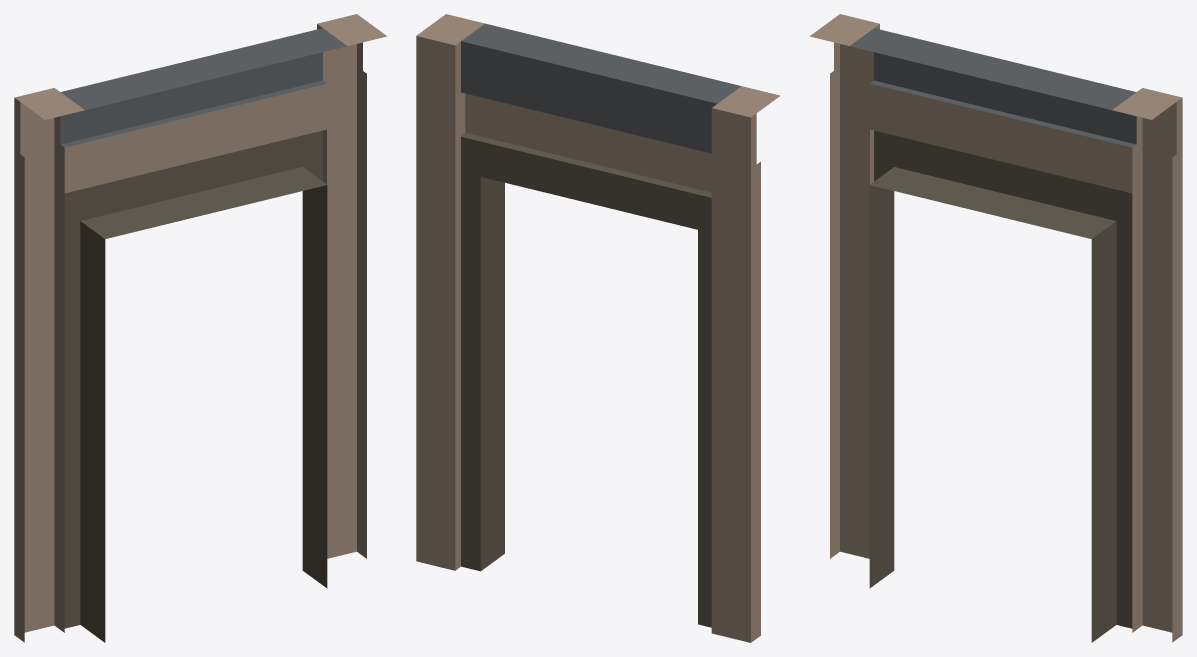
Rendered from Pillar_door.fbx.
The picture shows the model from 3 angles, left to right: view 1: azimuth 30°, elevation 25°; view 2: azimuth 150°, elevation 25°; view 3: azimuth 330°, elevation 25°; orthographic projection. The views are drawn at different scales.
Parts seen in each view (by area): view 1: Wall_1.005; view 2: Wall_1.005; view 3: Wall_1.005.
Boxes of the visible parts, x1=… form: Wall_1.005: x1=14, y1=14, x2=387, y2=642; Wall_1.005: x1=416, y1=14, x2=780, y2=642; Wall_1.005: x1=809, y1=14, x2=1182, y2=642.
Bounding box in the file's own units: 200 × 300 × 31.
